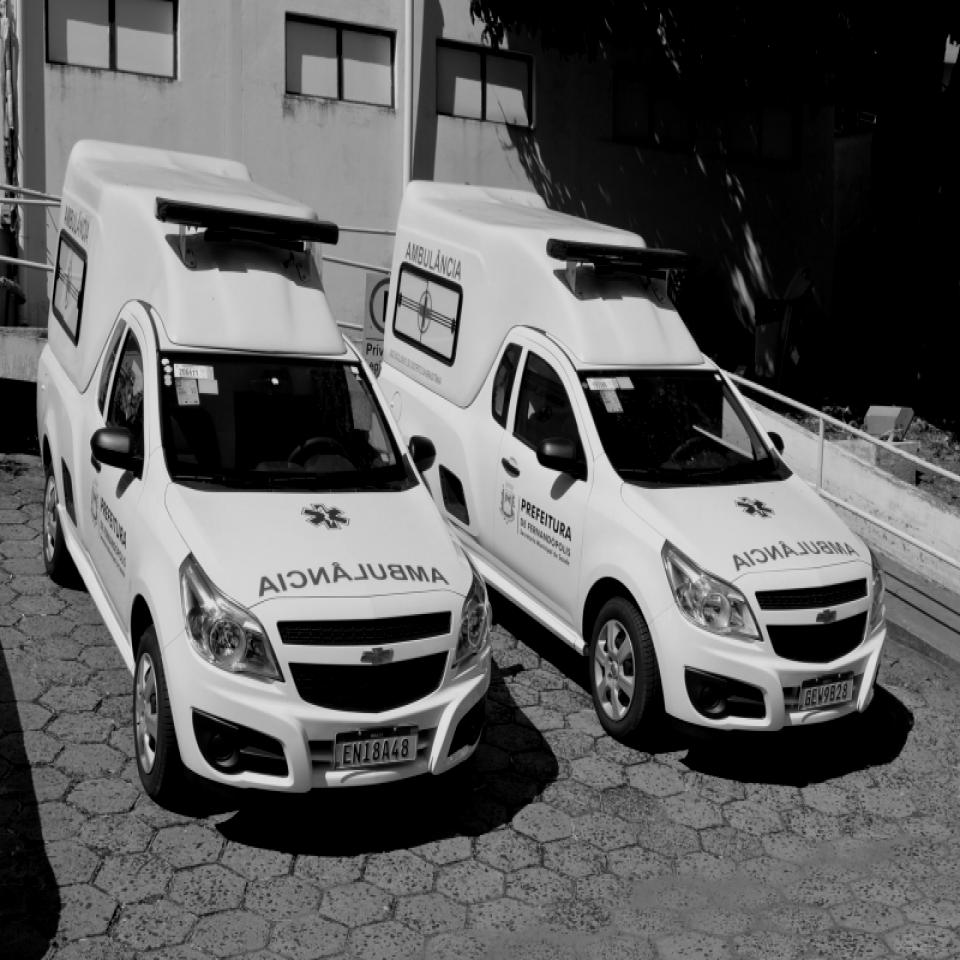ambulancia: (33, 135, 496, 813), (378, 178, 890, 748)
